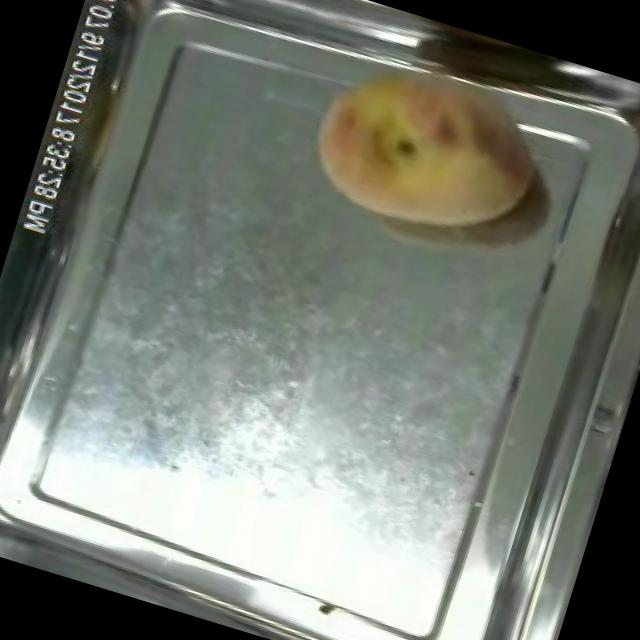Fruit: (284, 26, 562, 267)
